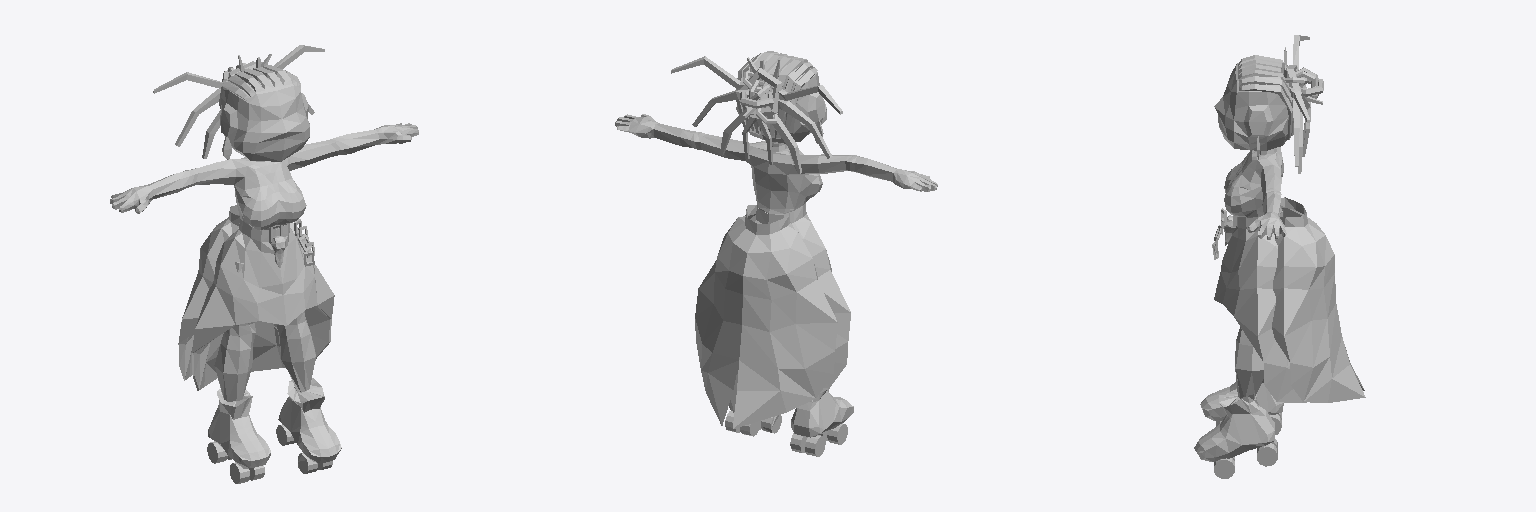
File: WitchFINAL2_000006.obj
3 renders of one model, left to right at view 1: azimuth 30°, elevation 25°; view 2: azimuth 150°, elevation 25°; view 3: azimuth 270°, elevation 25°, orthographic.
Parts seen in each view (by area): view 1: Body_Cylinder, Torso(Boobies)_Cylinder.002, LegR_Cube.004, LegL_Cube.003, Head_Cylinder.004, ZBody_Cylinder.001, Hair_Cylinder.006, Tail.001_Torus.001; view 2: ZBody_Cylinder.001, Torso(Boobies)_Cylinder.002, Body_Cylinder, LegR_Cube.004, Hair_Cylinder.006, Tail.001_Torus.001, Tail_Torus, Tail.002_Torus.002, Head_Cylinder.004, LegL_Cube.003; view 3: ZBody_Cylinder.001, Body_Cylinder, LegL_Cube.003, Torso(Boobies)_Cylinder.002, Head_Cylinder.004, Hair_Cylinder.006, LegR_Cube.004, Tail_Torus, Tail.002_Torus.002.
Boxes of the visible parts, box(x1,y1,x2,y2) form: Body_Cylinder: box(192, 219, 334, 390); Torso(Boobies)_Cylinder.002: box(110, 123, 418, 230); LegR_Cube.004: box(207, 262, 270, 483); LegL_Cube.003: box(276, 311, 341, 473); Head_Cylinder.004: box(220, 67, 309, 161); ZBody_Cylinder.001: box(178, 205, 239, 380); Hair_Cylinder.006: box(219, 65, 300, 108); Tail.001_Torus.001: box(153, 72, 227, 158); ZBody_Cylinder.001: box(695, 205, 837, 428); Torso(Boobies)_Cylinder.002: box(615, 114, 937, 213); Body_Cylinder: box(729, 203, 850, 412); LegR_Cube.004: box(790, 389, 853, 456); Hair_Cylinder.006: box(736, 51, 817, 138); Tail.001_Torus.001: box(756, 85, 842, 173); Tail_Torus: box(740, 57, 782, 123); Tail.002_Torus.002: box(671, 56, 756, 158); Head_Cylinder.004: box(736, 60, 826, 143); LegL_Cube.003: box(725, 405, 781, 436); ZBody_Cylinder.001: box(1272, 197, 1365, 402); Body_Cylinder: box(1214, 211, 1306, 402); LegL_Cube.003: box(1194, 266, 1277, 478); Torso(Boobies)_Cylinder.002: box(1224, 147, 1286, 239); Head_Cylinder.004: box(1214, 63, 1290, 150); Hair_Cylinder.006: box(1238, 55, 1293, 139); LegR_Cube.004: box(1200, 379, 1283, 434); Tail_Torus: box(1281, 47, 1323, 109); Tail.002_Torus.002: box(1289, 87, 1310, 173).
Size of the model in its own units: 13.6 by 16.8 by 6.49.